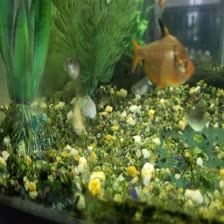Guppy: (61, 55, 83, 83)
Transparente: (126, 21, 199, 93)
